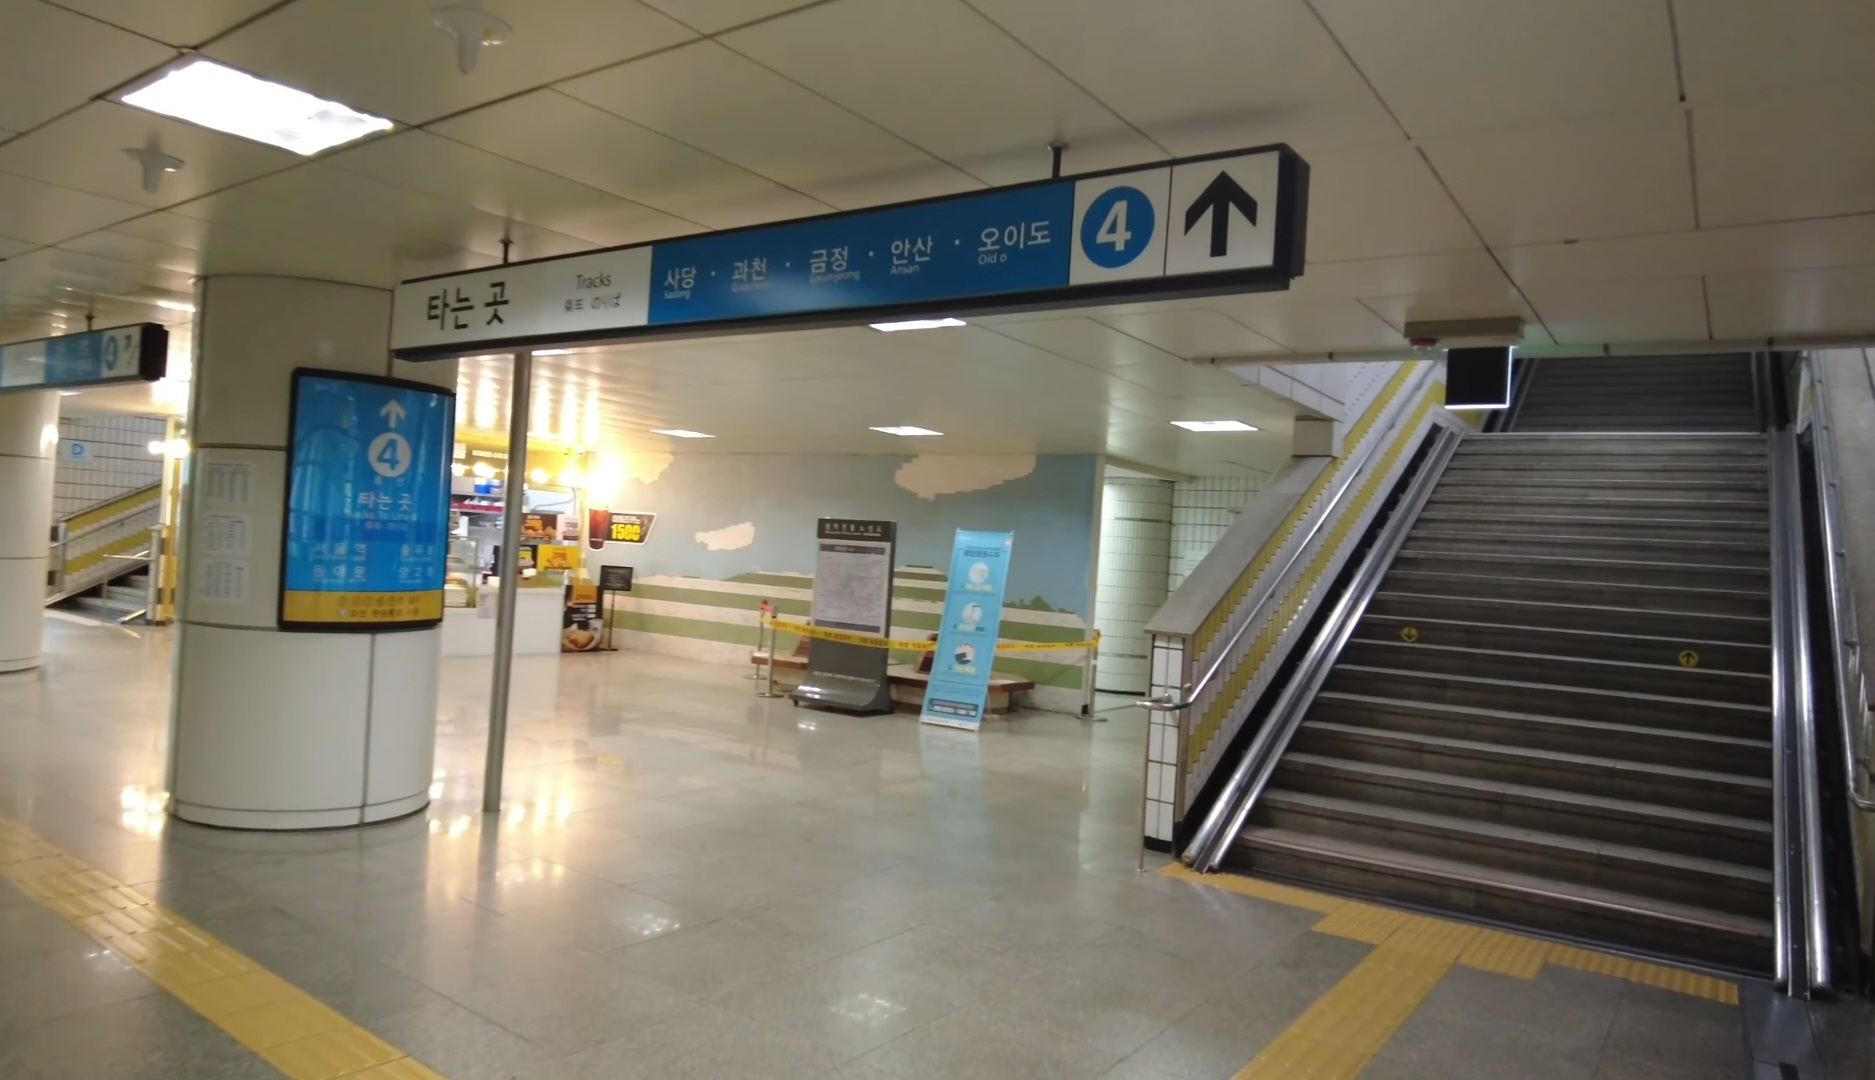signBoard: (353, 133, 1329, 371)
